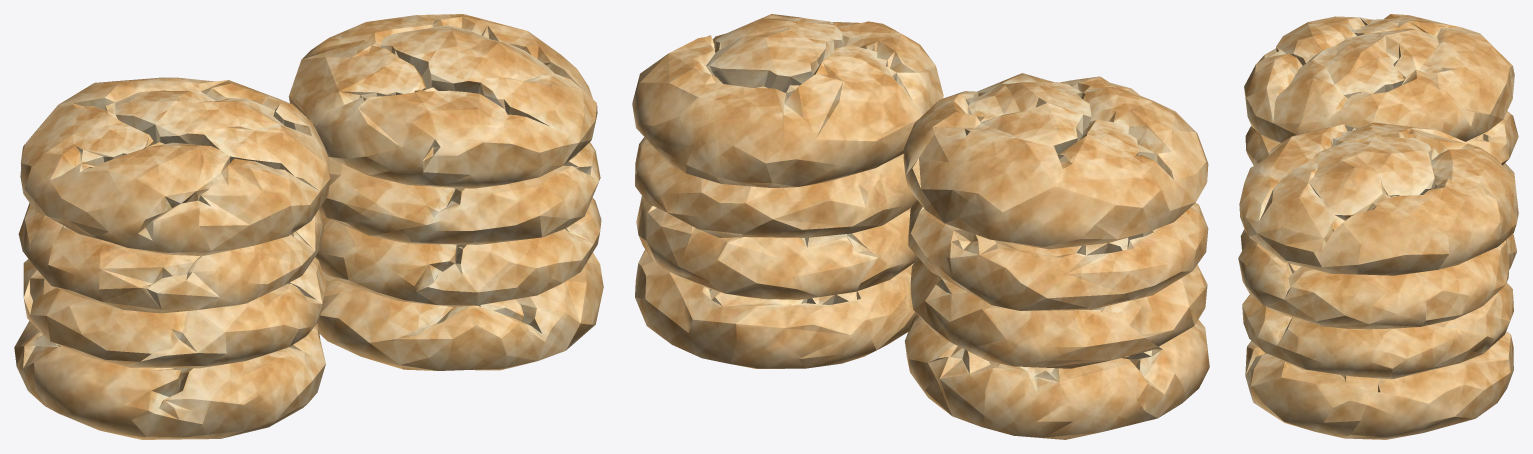
Rendered from showbread.glb.
The picture shows the model from 3 angles, left to right: view 1: azimuth 30°, elevation 25°; view 2: azimuth 150°, elevation 25°; view 3: azimuth 270°, elevation 25°; orthographic projection. The views are drawn at different scales.
Size of the model in its own units: 1.9 by 0.9603 by 0.9849.
1 material, 1 textured.
